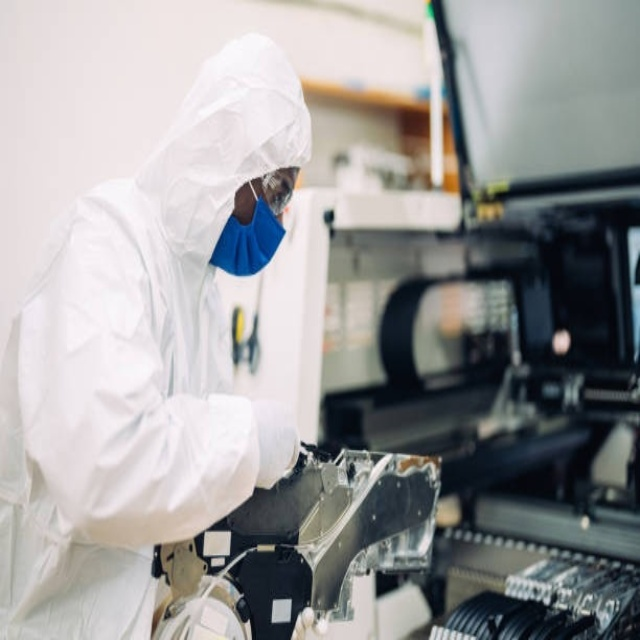Gafas: (256, 169, 297, 218)
Guantes: (244, 387, 305, 496)
Mascara: (209, 184, 286, 278)
